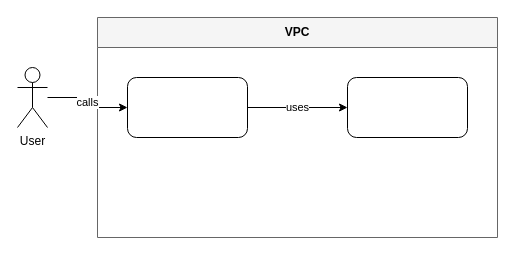
Image size: 515x255. Some labels were removed from this diagram. Here are the shapes that lost their labels. From the top down, the box of each, then its label:
(126, 76, 248, 138): App
(346, 76, 468, 138): Cache
